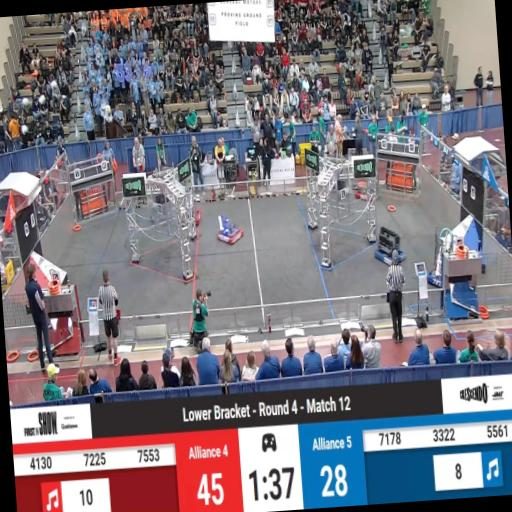robot: (374, 228, 406, 268), (216, 214, 244, 246), (352, 181, 376, 201)
